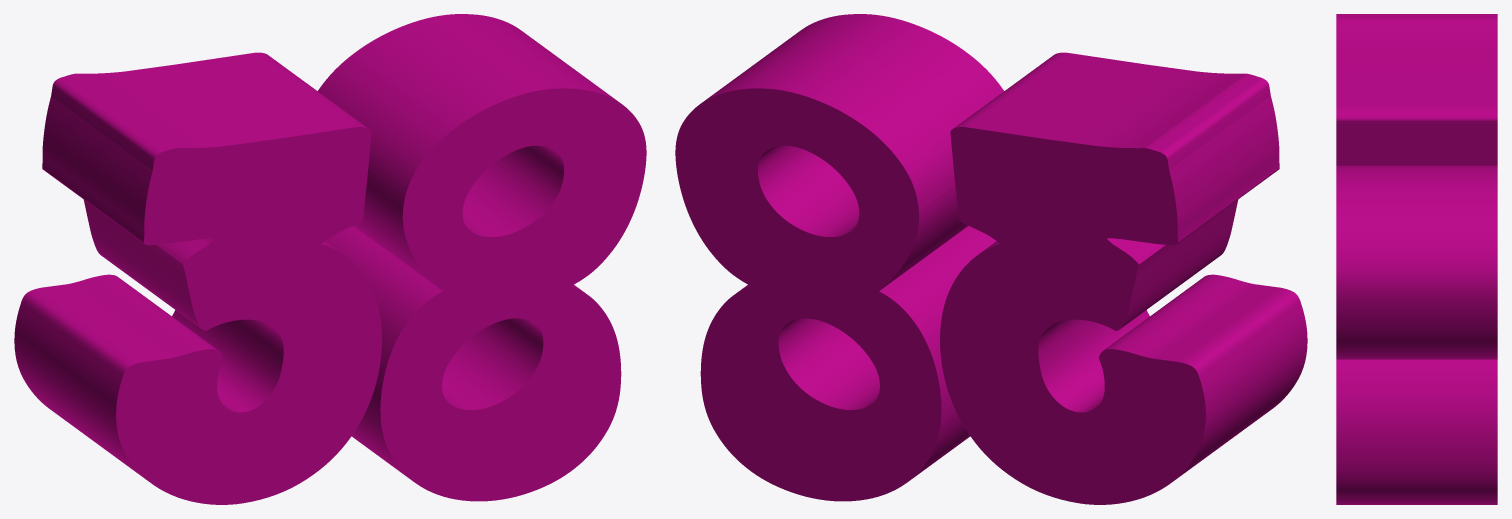
The picture shows the model from 3 angles, left to right: view 1: azimuth 30°, elevation 25°; view 2: azimuth 150°, elevation 25°; view 3: azimuth 270°, elevation 25°; orthographic projection. The views are drawn at different scales.
Visible parts, largest first — view 1: Shape4; view 2: Shape4; view 3: Shape4.
Boxes of the visible parts, bbox=[...] form: Shape4: bbox=[14, 14, 646, 504]; Shape4: bbox=[675, 14, 1307, 504]; Shape4: bbox=[1336, 14, 1497, 504].
Size of the model in its own units: 15.07 by 11.71 by 5.
